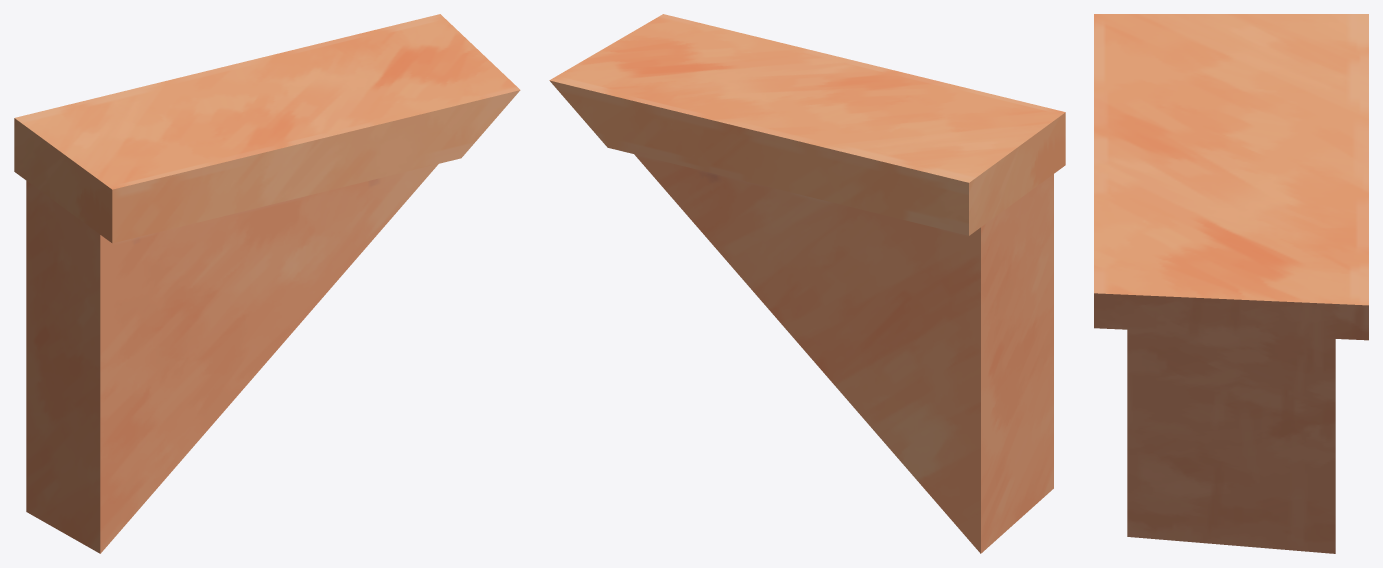
The model's file is parapet_plain_s01.fbx.
3 renders of one model, left to right at view 1: azimuth 30°, elevation 25°; view 2: azimuth 150°, elevation 25°; view 3: azimuth 270°, elevation 25°, orthographic. The views are drawn at different scales.
Parts seen in each view (by area): view 1: parapet_plain_s01; view 2: parapet_plain_s01; view 3: parapet_plain_s01.
Part boxes in pixels (x1,y1,x2,y2): parapet_plain_s01: [14, 14, 520, 553]; parapet_plain_s01: [549, 14, 1065, 553]; parapet_plain_s01: [1094, 14, 1368, 553].
Size of the model in its own units: 3.31 by 2.86 by 1.32.
